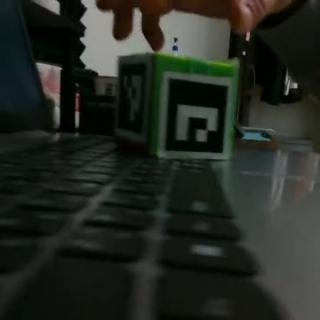armor: (159, 71, 233, 159), (114, 54, 150, 141)
robot: (113, 52, 237, 165)
